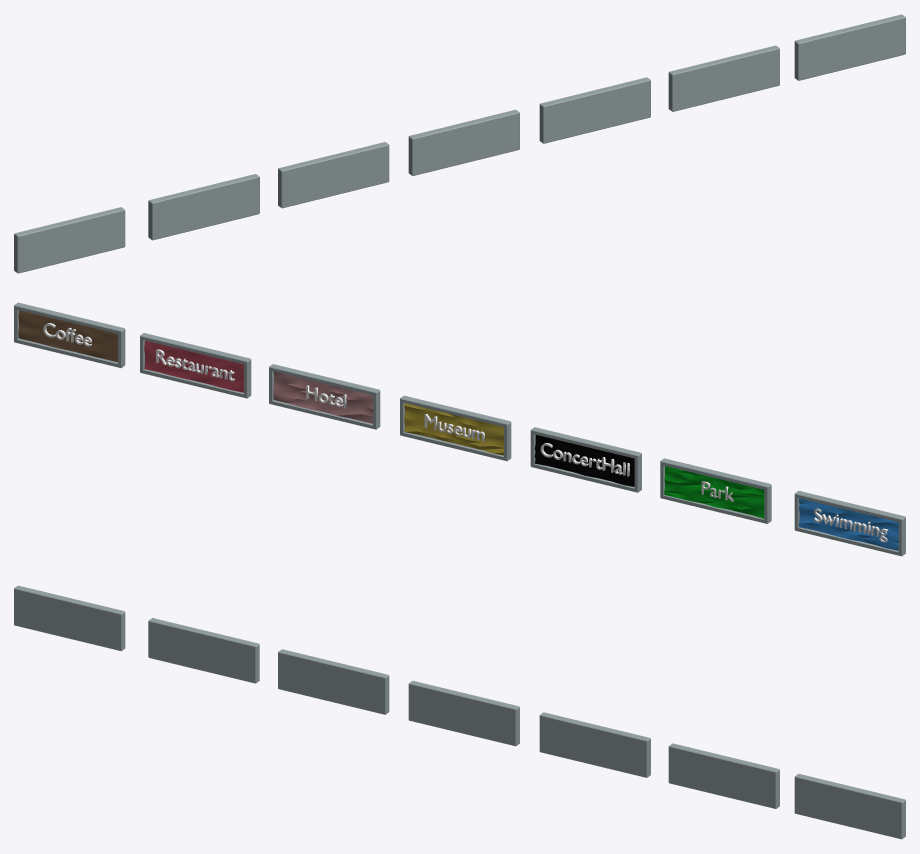
File: gans.fbx
3 renders of one model, top to bottom at view 1: azimuth 30°, elevation 25°; view 2: azimuth 150°, elevation 25°; view 3: azimuth 330°, elevation 25°, orthographic.
Visible parts, largest first — view 1: Cube.004, Cube.002, Cube.001, Cube, Cube.003, Cube.005, Cube.006; view 2: Cube.005, Cube.002, Cube, Cube.003, Cube.006, Cube.001, Cube.004, Text.004, Text.001, Text.006, Text.003; view 3: Cube.002, Cube, Cube.001, Cube.003, Cube.004, Cube.005, Cube.006.
Part boxes in pixels (x1,y1,x2,y2): Cube.004: (278,142,389,208); Cube.002: (539,77,650,143); Cube.001: (668,45,779,111); Cube: (794,14,905,80); Cube.003: (408,109,519,175); Cube.005: (148,174,259,240); Cube.006: (14,207,125,273); Cube.005: (660,458,771,523); Cube.002: (269,364,380,429); Cube: (14,302,125,368); Cube.003: (400,395,511,461); Cube.006: (794,490,905,556); Cube.001: (140,333,251,398); Cube.004: (530,427,641,492); Text.004: (540,443,629,476); Text.001: (156,349,234,381); Text.006: (814,508,888,542); Text.003: (424,413,484,441); Cube.002: (539,712,650,777); Cube: (794,773,905,839); Cube.001: (668,743,779,808); Cube.003: (408,680,519,746); Cube.004: (278,649,389,714); Cube.005: (148,618,259,683); Cube.006: (14,585,125,651).
Bounding box in the file's own units: 4936 × 200 × 65.23.
